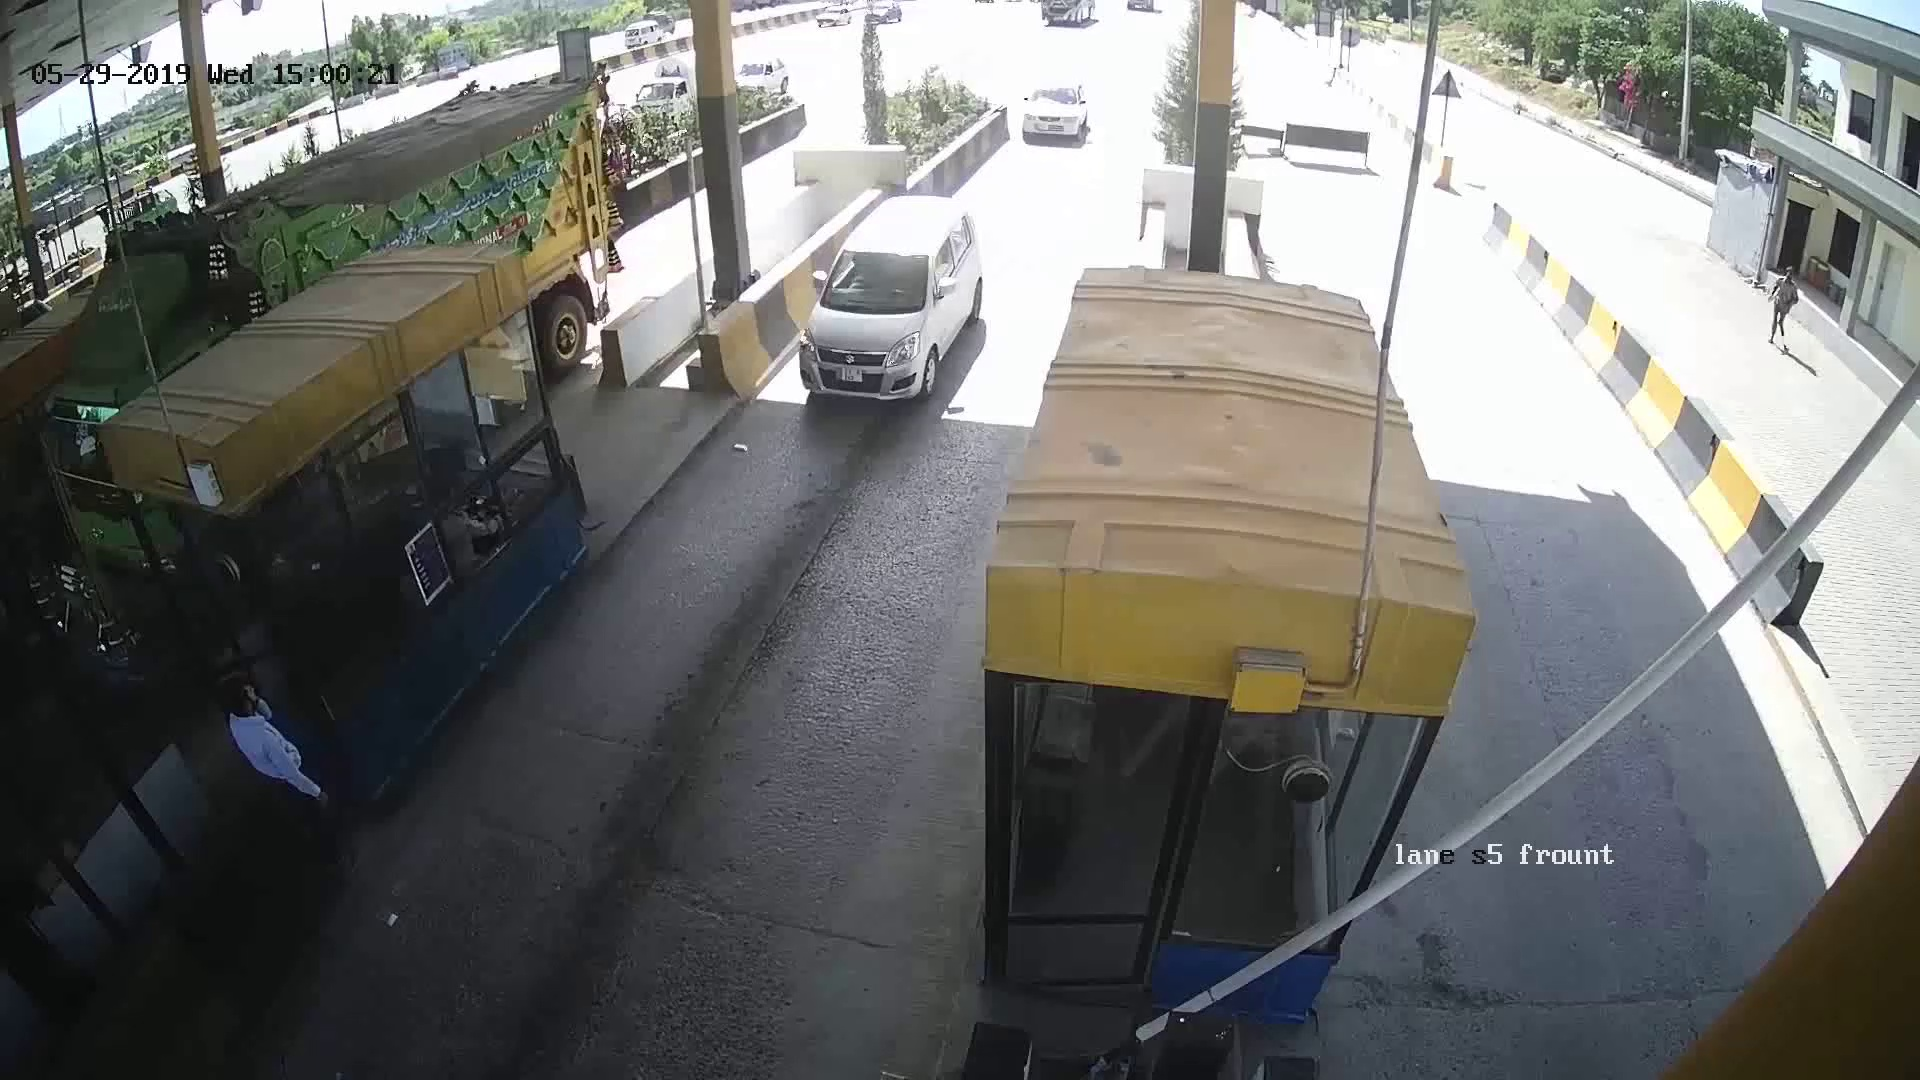car: (793, 214, 1009, 400), (1009, 71, 1106, 167)
